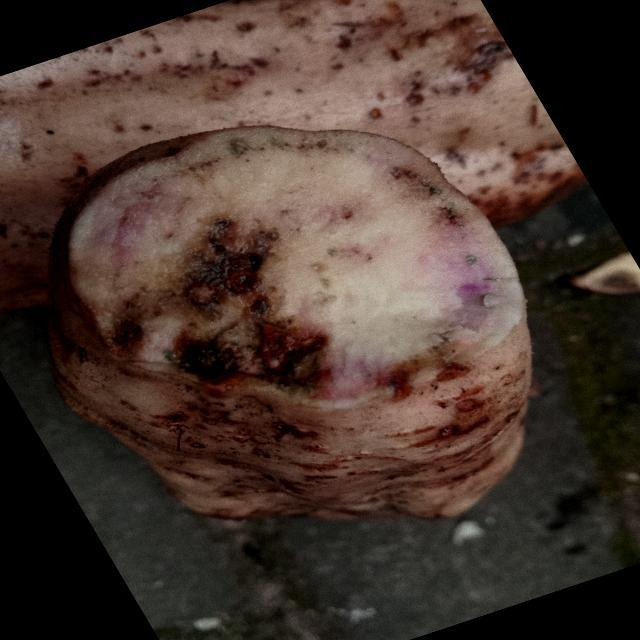Sick Sweet Potato_Tuber Rot: (55, 126, 525, 409)
